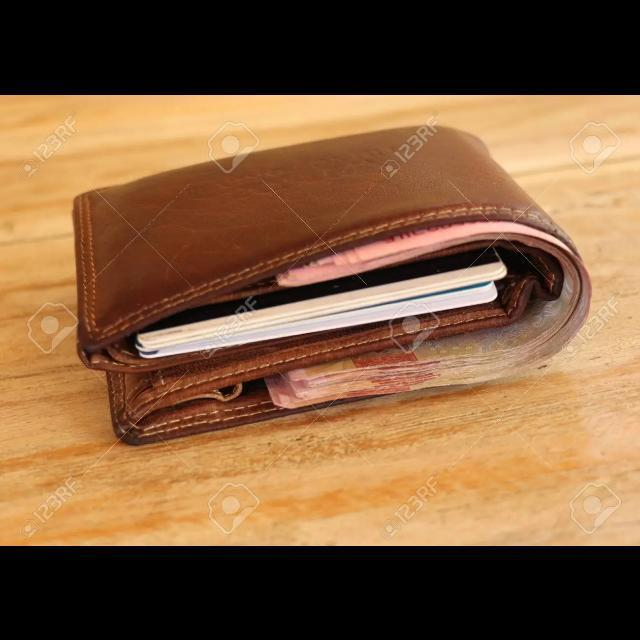wallet: (49, 113, 596, 450)
